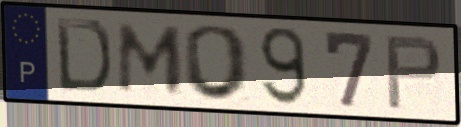7: (320, 28, 375, 111)
9: (255, 25, 310, 108)
D: (53, 15, 115, 96)
M: (115, 20, 186, 96)
O: (182, 23, 253, 103)
P: (382, 34, 445, 112)
